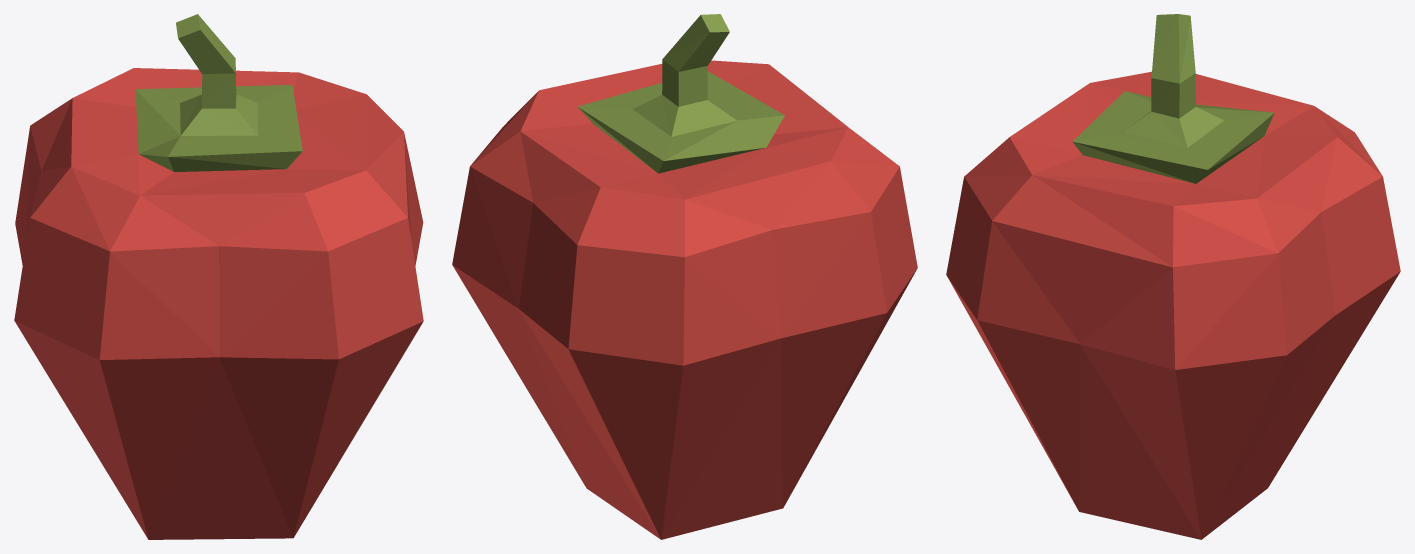
Rendered from Pepper_01.fbx.
3 views of the same model, side by side, from view 1: azimuth 30°, elevation 25°; view 2: azimuth 150°, elevation 25°; view 3: azimuth 270°, elevation 25° (orthographic). The views are drawn at different scales.
Visible parts, largest first — view 1: Pepper_01; view 2: Pepper_01; view 3: Pepper_01.
Boxes of the visible parts, bbox=[...] form: Pepper_01: bbox=[14, 14, 423, 539]; Pepper_01: bbox=[452, 14, 917, 539]; Pepper_01: bbox=[946, 14, 1400, 539].
Size of the model in its own units: 12.03 by 14.45 by 12.03.
